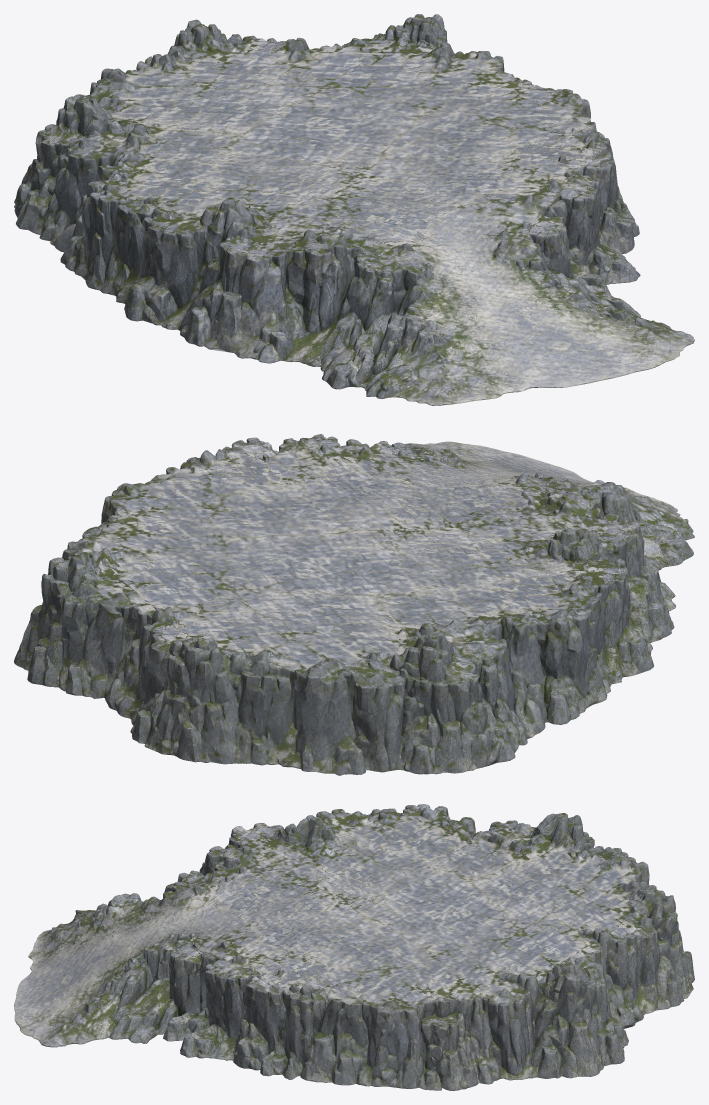
File: glb.glb
3 renders of one model, top to bottom at view 1: azimuth 30°, elevation 25°; view 2: azimuth 150°, elevation 25°; view 3: azimuth 270°, elevation 25°, orthographic. The views are drawn at different scales.
Parts seen in each view (by area): view 1: Mesh_0; view 2: Mesh_0; view 3: Mesh_0.
Boxes of the visible parts, x1=… form: Mesh_0: x1=14, y1=14, x2=694, y2=405; Mesh_0: x1=14, y1=434, x2=694, y2=775; Mesh_0: x1=14, y1=804, x2=694, y2=1090.
Bounding box in the file's own units: 1.44 × 0.2988 × 1.9.
Materials: 1 (1 with a texture image).
